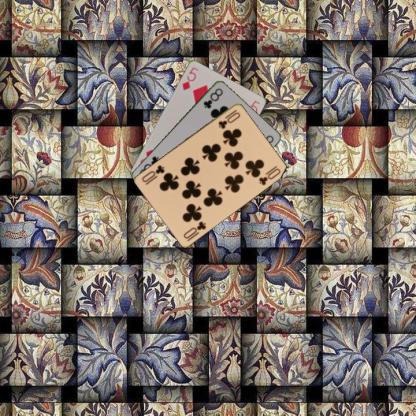10c: (181, 218, 207, 242), (216, 107, 242, 130)
5d: (180, 64, 200, 91)
8c: (201, 85, 224, 110)
